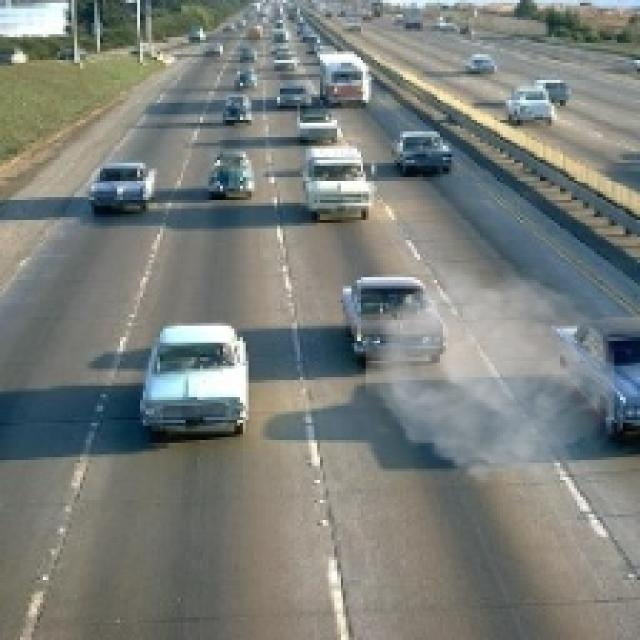Smoke: (366, 259, 614, 492)
